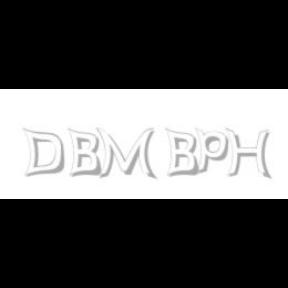B: (67, 128, 101, 178), (165, 128, 199, 178)
D: (22, 128, 64, 178)
H: (225, 128, 271, 180)
M: (96, 128, 154, 180)
p: (196, 128, 233, 174)
